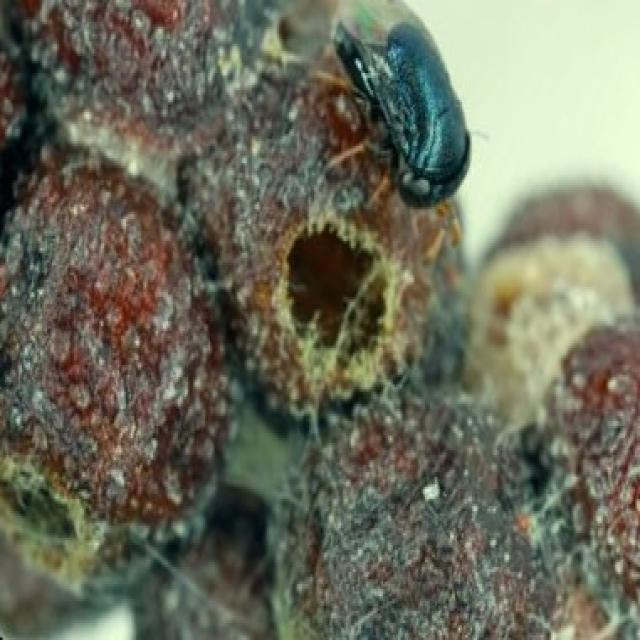BlackScale: (0, 146, 225, 567), (217, 76, 447, 397), (270, 390, 566, 638), (548, 336, 638, 586)
